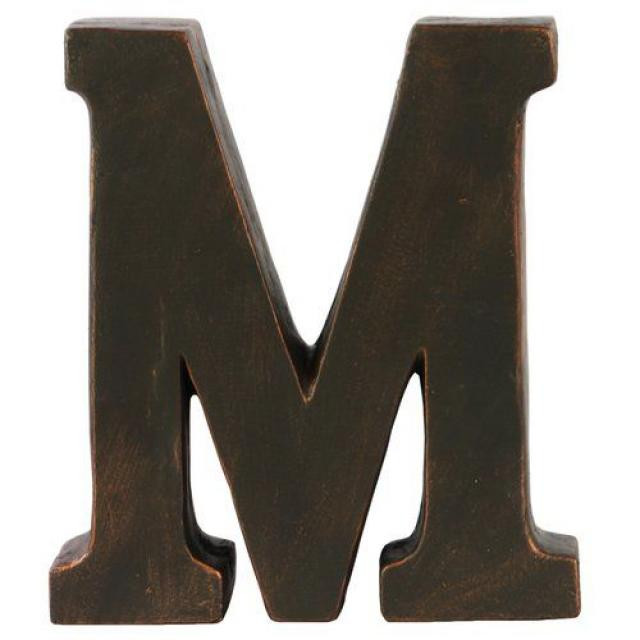M: (29, 7, 604, 630)
